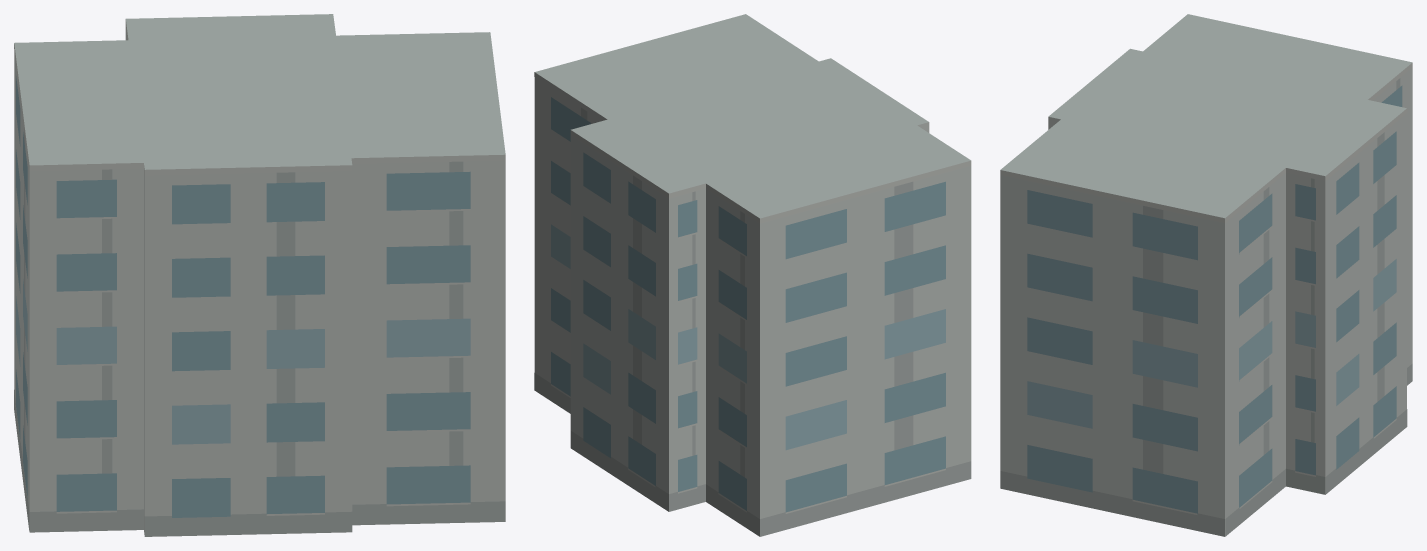
The model's file is residential-ccb7dee9-0d4e-4efe-a108-08a29ba544d2.glb.
3 views of the same model, side by side, from view 1: azimuth 30°, elevation 25°; view 2: azimuth 150°, elevation 25°; view 3: azimuth 270°, elevation 25° (orthographic). The views are drawn at different scales.
Visible parts, largest first — view 1: residential-ccb7dee9-0d4e-4efe-a108-08a29ba544d2.tmp; view 2: residential-ccb7dee9-0d4e-4efe-a108-08a29ba544d2.tmp; view 3: residential-ccb7dee9-0d4e-4efe-a108-08a29ba544d2.tmp.
Boxes of the visible parts, left/top/right/bottom form: residential-ccb7dee9-0d4e-4efe-a108-08a29ba544d2.tmp: left=14, top=14, right=505, bottom=536; residential-ccb7dee9-0d4e-4efe-a108-08a29ba544d2.tmp: left=534, top=14, right=971, bottom=536; residential-ccb7dee9-0d4e-4efe-a108-08a29ba544d2.tmp: left=1000, top=14, right=1412, bottom=536.
Bounding box in the file's own units: 20.98 × 15.25 × 17.9.
